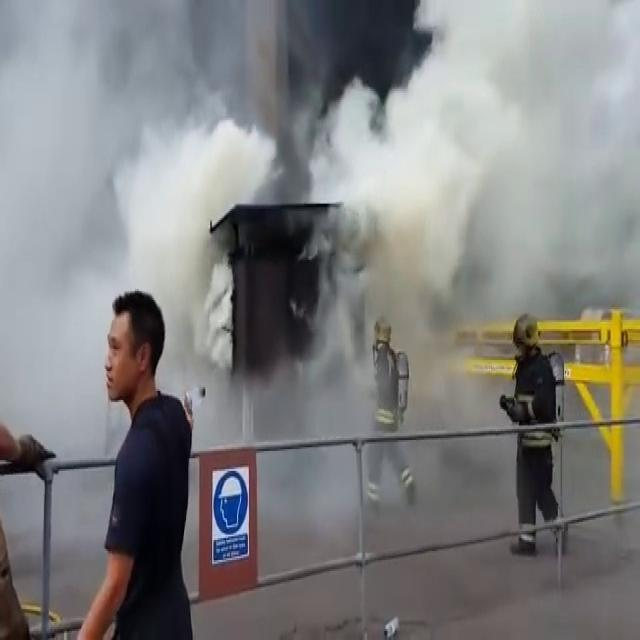Smoke: (394, 0, 640, 282), (123, 94, 309, 402)
